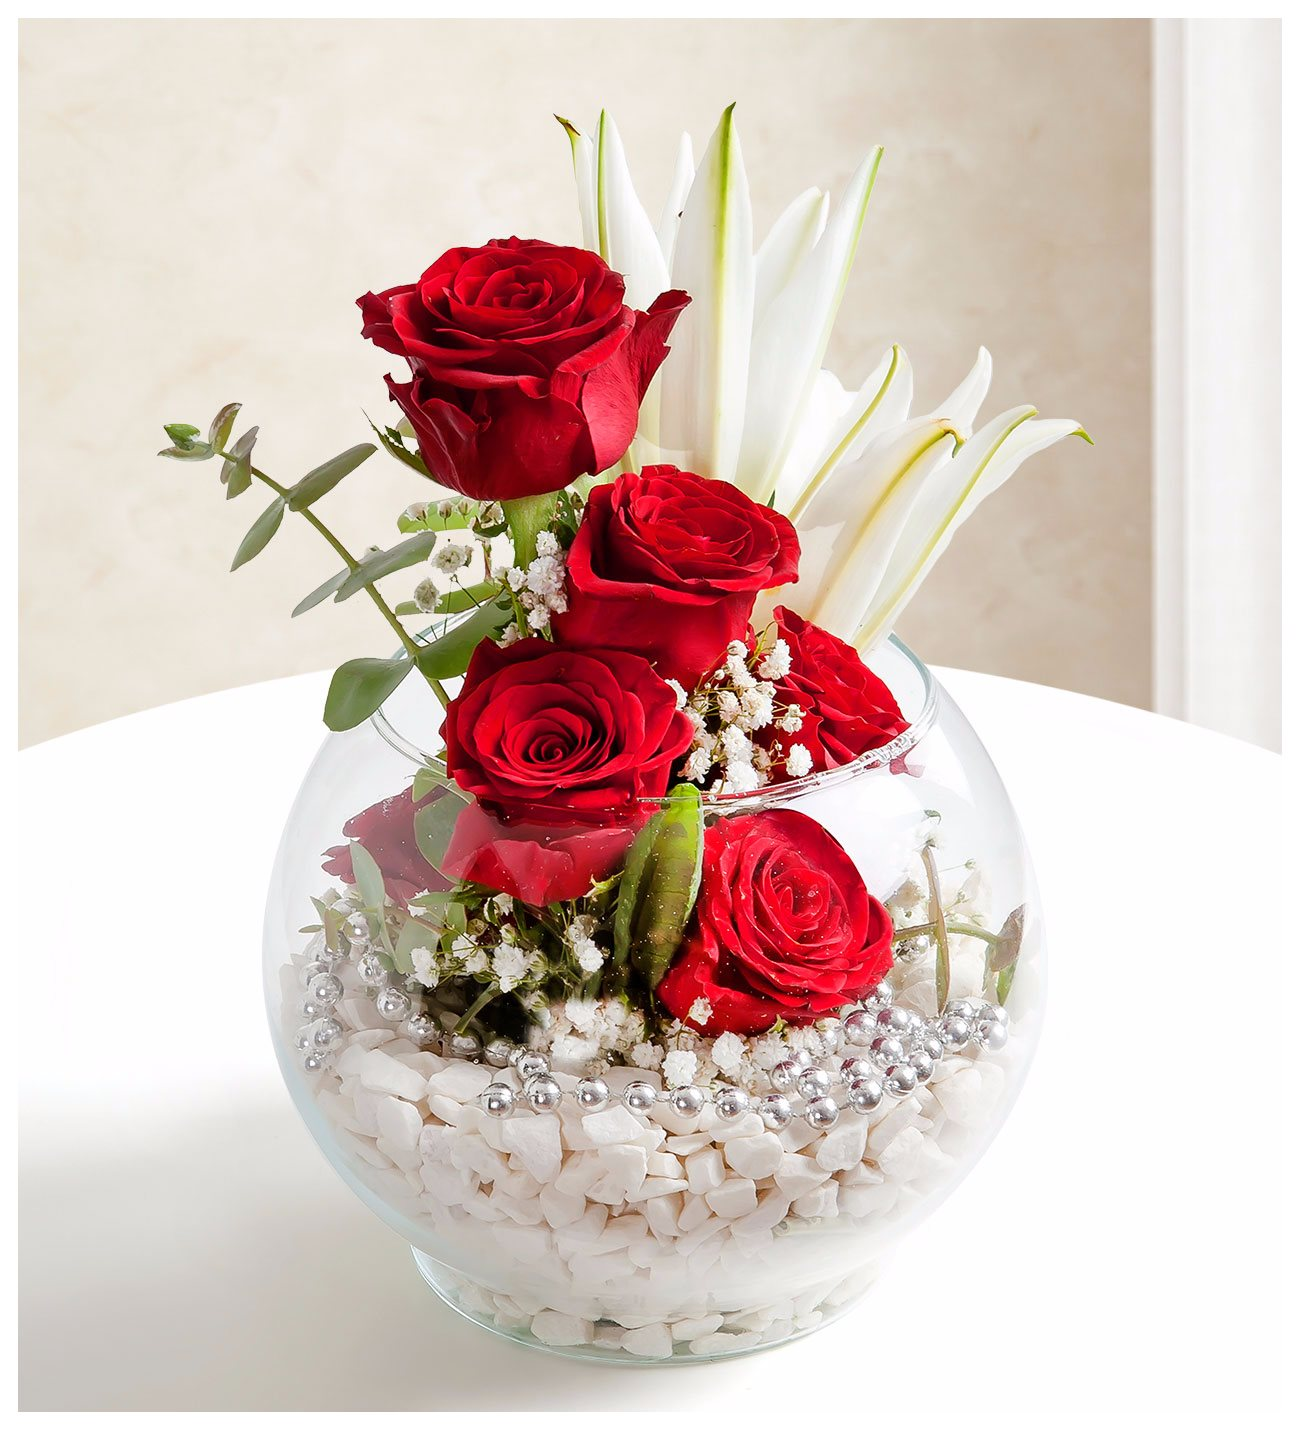rose: (365, 217, 672, 519), (415, 607, 697, 935), (671, 760, 909, 1079), (544, 463, 808, 688), (770, 575, 904, 802)
